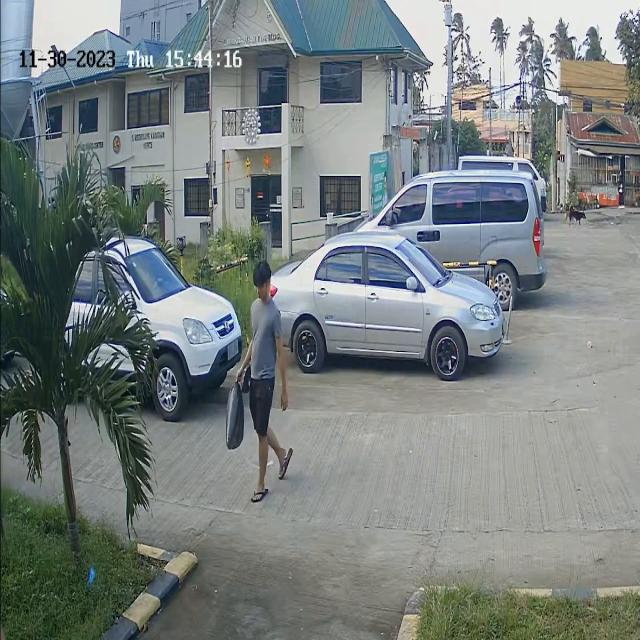garbage_dumping: (222, 376, 248, 452)
